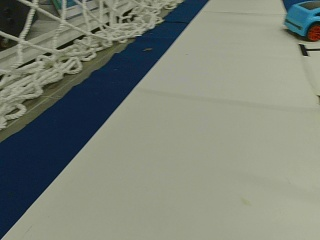car: (283, 2, 319, 39)
